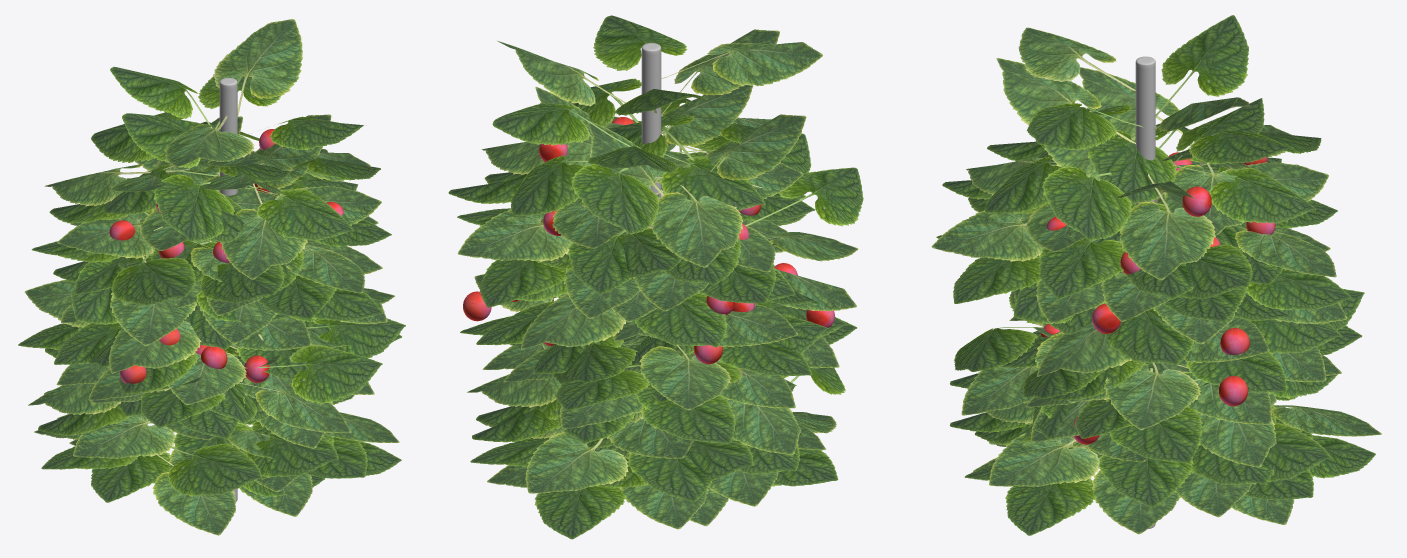
File: berry_bush_2.fbx
3 views of the same model, side by side, from view 1: azimuth 30°, elevation 25°; view 2: azimuth 150°, elevation 25°; view 3: azimuth 270°, elevation 25° (orthographic). The views are drawn at different scales.
Parts seen in each view (by area): view 1: pPlane5 (×6), pPlane3 (×8), pPlane4 (×6), pPlane13 (×5), pPlane2 (×6), pPlane6 (×7), pPlane11 (×5), pPlane8 (×4), pPlane1 (×5), pPlane9 (×4), pPlane28, pPlane12 (×4) (+13 smaller); view 2: pPlane4 (×6), pPlane5 (×9), pPlane3 (×4), pPlane8 (×4), pPlane1 (×5), pPlane6 (×3), pPlane9 (×4), pPlane11 (×4), pPlane10 (×4), pPlane2 (×3), pPlane15 (×2), pPlane13 (×6) (+12 smaller); view 3: pPlane3 (×5), pPlane4 (×7), pPlane6 (×5), pPlane5 (×7), pPlane8 (×5), pPlane2 (×5), pPlane1 (×4), pPlane12 (×5), pPlane10 (×3), pPlane13 (×4), pPlane11 (×5), pPlane9 (×4) (+15 smaller).
Part boxes in pixels (left/top/right/bottom): pPlane5 (×6): left=111, top=252, right=405, bottom=496; pPlane3 (×8): left=24, top=209, right=399, bottom=458; pPlane4 (×6): left=28, top=152, right=370, bottom=448; pPlane13 (×5): left=110, top=257, right=351, bottom=535; pPlane2 (×6): left=71, top=112, right=380, bottom=423; pPlane6 (×7): left=18, top=241, right=401, bottom=502; pPlane11 (×5): left=31, top=241, right=367, bottom=478; pPlane8 (×4): left=103, top=164, right=354, bottom=349; pPlane1 (×5): left=54, top=219, right=391, bottom=459; pPlane9 (×4): left=139, top=186, right=381, bottom=350; pPlane28: left=213, top=19, right=302, bottom=117; pPlane12 (×4): left=38, top=177, right=358, bottom=435; pPlane4 (×6): left=467, top=141, right=856, bottom=454; pPlane5 (×9): left=448, top=133, right=863, bottom=481; pPlane3 (×4): left=457, top=198, right=775, bottom=493; pPlane8 (×4): left=510, top=154, right=765, bottom=443; pPlane1 (×5): left=476, top=193, right=814, bottom=502; pPlane6 (×3): left=479, top=259, right=735, bottom=539; pPlane9 (×4): left=552, top=156, right=803, bottom=458; pPlane11 (×4): left=470, top=264, right=838, bottom=486; pPlane10 (×4): left=482, top=269, right=795, bottom=529; pPlane2 (×3): left=568, top=78, right=694, bottom=234; pPlane15 (×2): left=661, top=85, right=806, bottom=180; pPlane13 (×6): left=487, top=232, right=858, bottom=526; pPlane3 (×5): left=931, top=210, right=1381, bottom=486; pPlane4 (×7): left=966, top=157, right=1347, bottom=467; pPlane6 (×5): left=953, top=257, right=1375, bottom=535; pPlane5 (×7): left=942, top=141, right=1331, bottom=484; pPlane8 (×5): left=984, top=156, right=1337, bottom=439; pPlane2 (×5): left=1013, top=130, right=1321, bottom=323; pPlane1 (×4): left=1039, top=199, right=1337, bottom=507; pPlane12 (×5): left=974, top=248, right=1341, bottom=484; pPlane10 (×3): left=1036, top=280, right=1271, bottom=534; pPlane13 (×4): left=961, top=300, right=1294, bottom=524; pPlane11 (×5): left=1075, top=231, right=1362, bottom=500; pPlane9 (×4): left=1025, top=162, right=1328, bottom=462.
Bounding box in the file's own units: 4.48 × 5.14 × 4.63.
